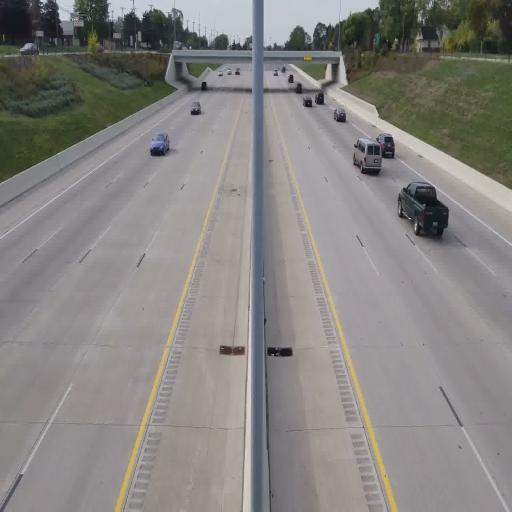Car: (352, 135, 382, 175), (149, 131, 170, 156), (376, 133, 395, 158), (333, 106, 346, 122), (303, 97, 313, 107)
Truck: (397, 180, 449, 237)
